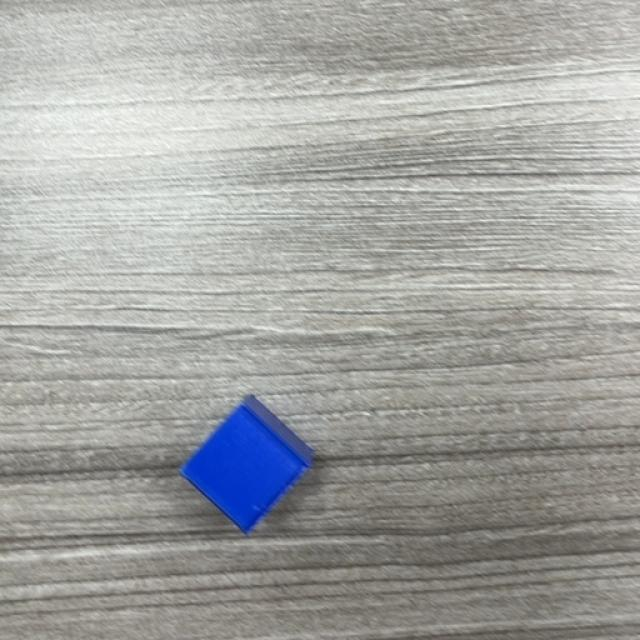Azul: (179, 395, 315, 536)
